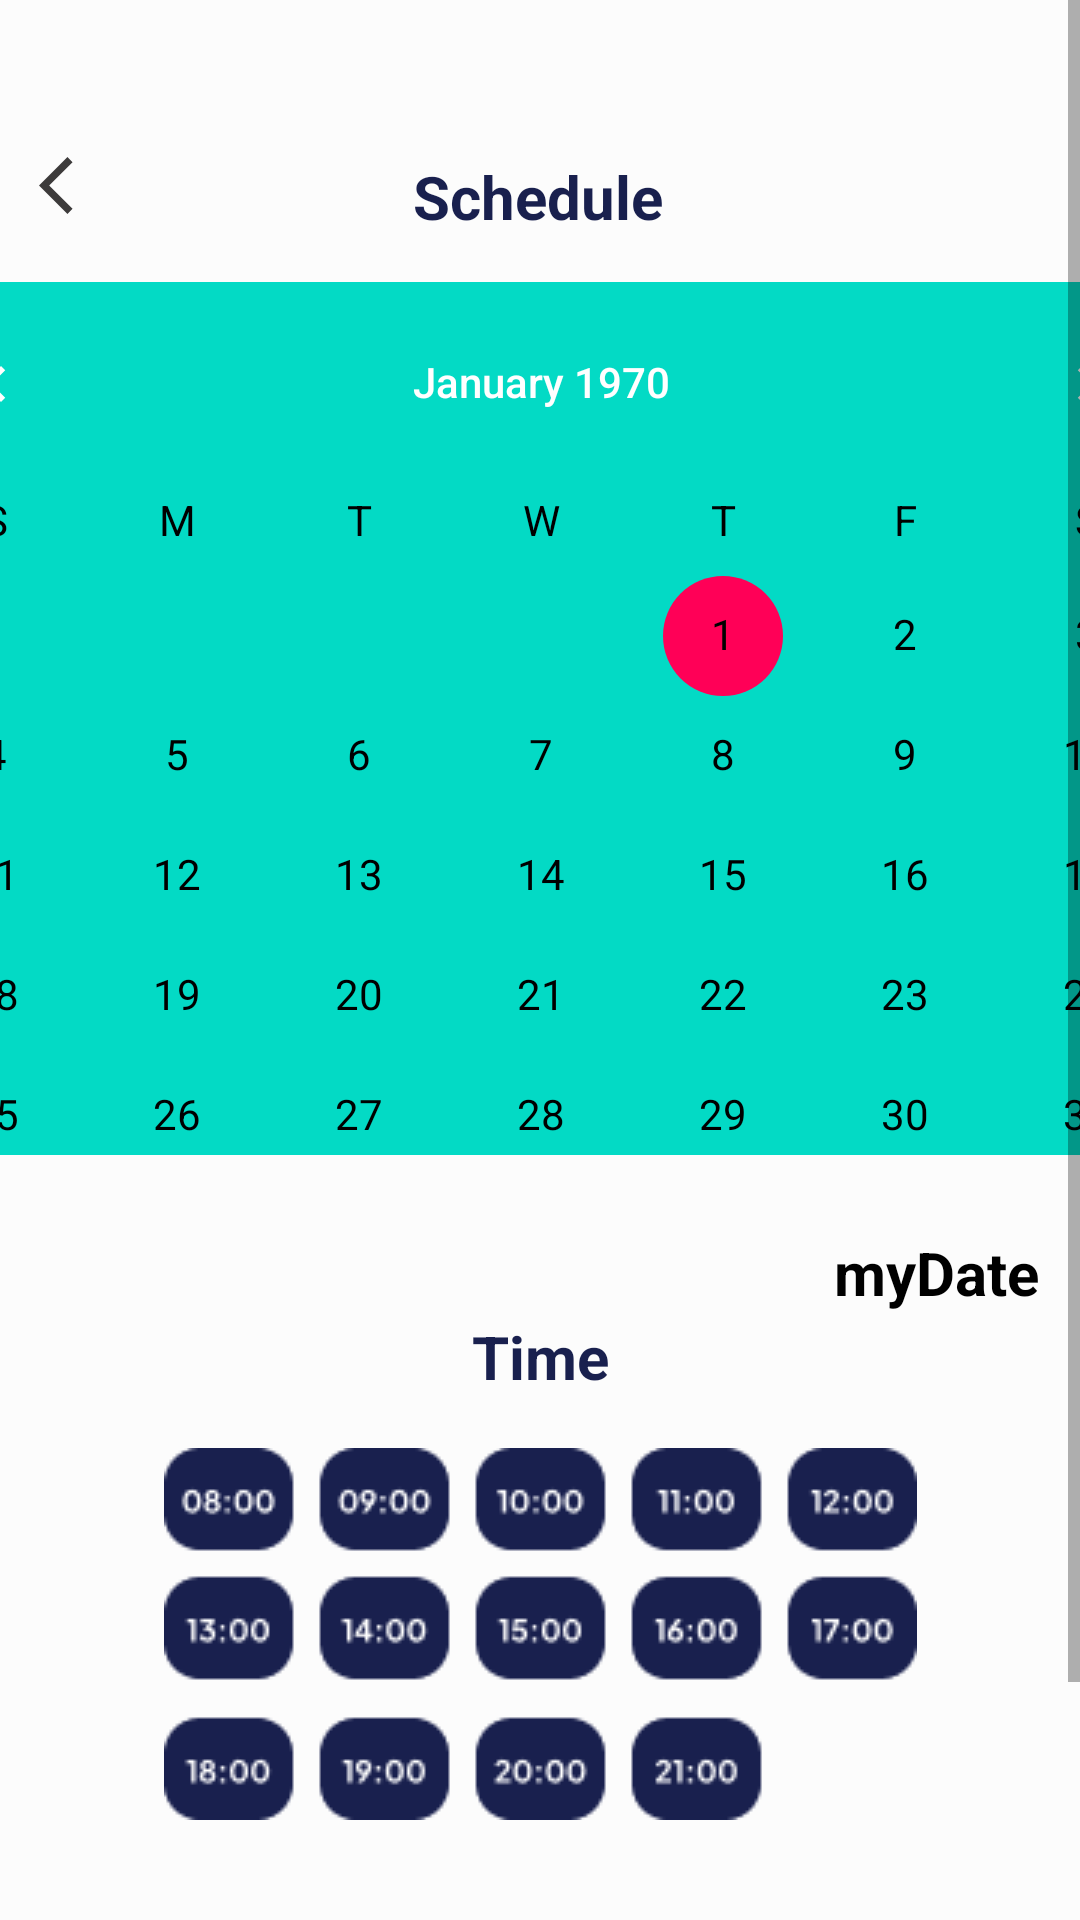

Icons on this 1080px×1920px Android screen, each with its box as bbox(x1, y1, x2, y2):
arrow back: bbox(39, 157, 73, 214)
